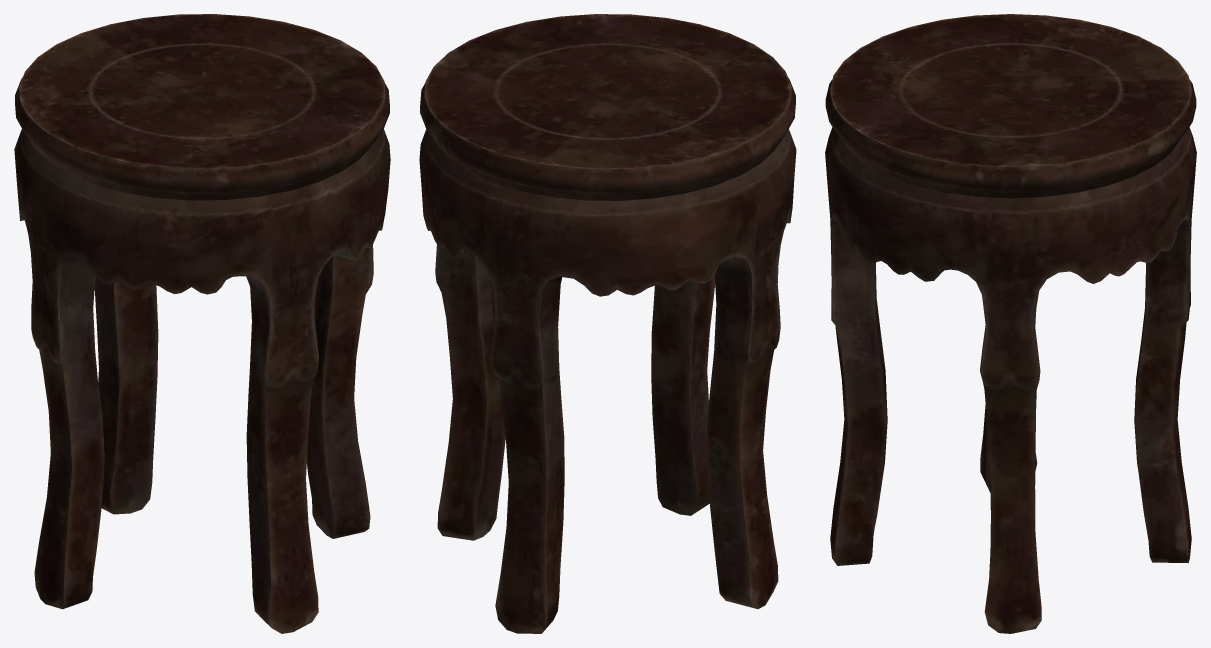
File: WoodenTable_02.glb
3 renders of one model, left to right at view 1: azimuth 30°, elevation 25°; view 2: azimuth 150°, elevation 25°; view 3: azimuth 270°, elevation 25°, orthographic.
Parts seen in each view (by area): view 1: WoodenTable_02; view 2: WoodenTable_02; view 3: WoodenTable_02.
Boxes of the visible parts, box(x1,y1,x2,y2) form: WoodenTable_02: box(14, 14, 390, 633); WoodenTable_02: box(419, 14, 796, 633); WoodenTable_02: box(825, 14, 1196, 633).
Bounding box in the file's own units: 0.3007 × 0.4177 × 0.3007.
Materials: 1 (1 with a texture image).
